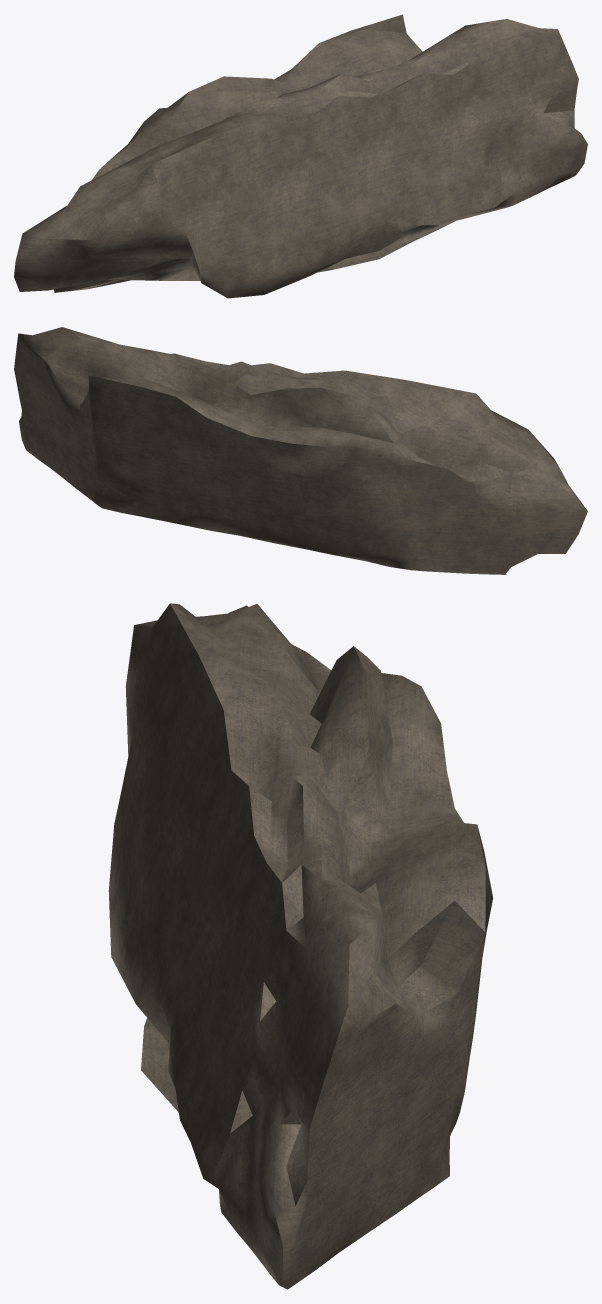
Rendered from SM_Rocas_PuertaNorte_Muro.fbx.
The picture shows the model from 3 angles, top to bottom: view 1: azimuth 30°, elevation 25°; view 2: azimuth 150°, elevation 25°; view 3: azimuth 270°, elevation 25°; orthographic projection. The views are drawn at different scales.
Parts seen in each view (by area): view 1: SM_Rocas_PuertaNorte_Muro; view 2: SM_Rocas_PuertaNorte_Muro; view 3: SM_Rocas_PuertaNorte_Muro.
Boxes of the visible parts, box(x1,y1,x2,y2) form: SM_Rocas_PuertaNorte_Muro: box(14, 14, 587, 298); SM_Rocas_PuertaNorte_Muro: box(14, 327, 587, 574); SM_Rocas_PuertaNorte_Muro: box(108, 603, 492, 1289).
Size of what is drawn, in the model's own units: 13.63 by 4.08 by 3.6.
